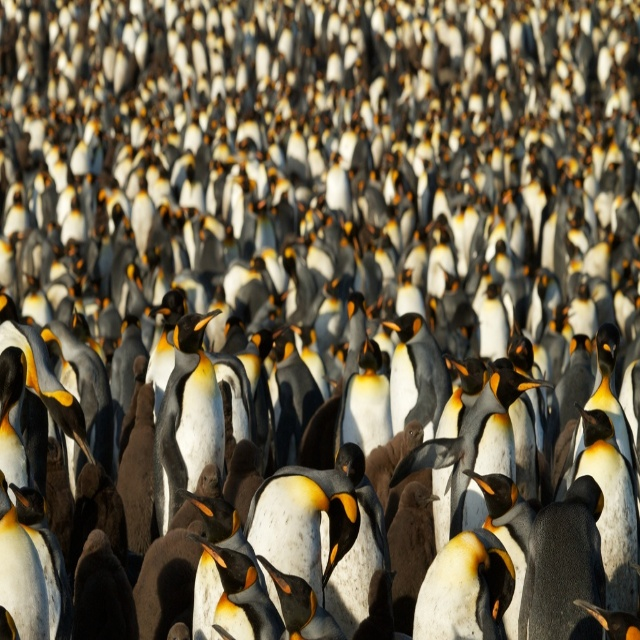Penguin: (0, 0, 640, 381), (146, 315, 241, 551), (448, 370, 558, 543), (520, 477, 606, 636), (568, 399, 640, 578), (382, 301, 453, 463), (411, 528, 513, 639), (189, 524, 287, 639), (434, 351, 487, 547), (580, 327, 638, 489), (7, 480, 64, 639), (133, 515, 206, 639), (333, 327, 396, 461), (254, 552, 346, 639), (67, 533, 135, 639), (270, 331, 324, 439), (149, 291, 192, 419), (238, 333, 269, 453), (480, 283, 511, 365), (563, 284, 598, 342), (583, 227, 616, 282), (425, 234, 458, 285), (541, 213, 562, 289), (310, 237, 338, 283)
